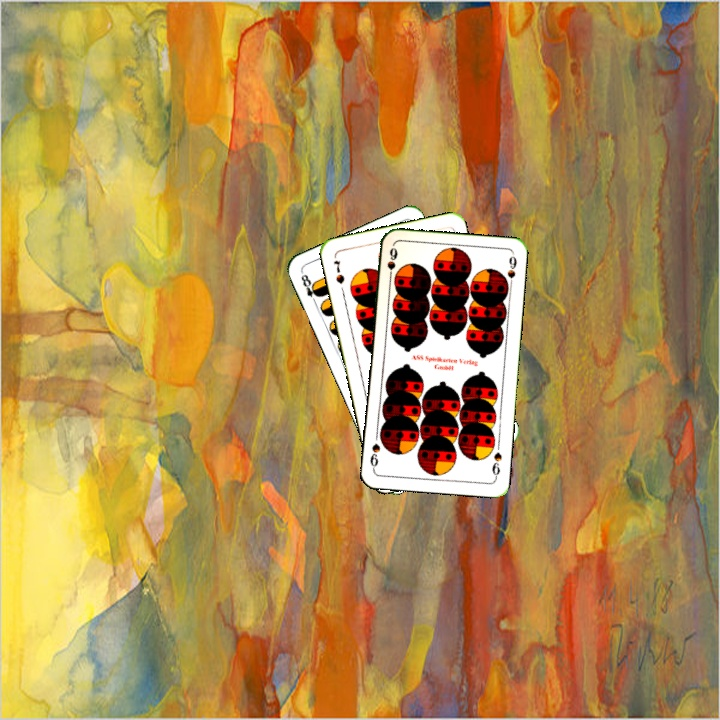E8: (297, 270, 322, 307)
S7: (329, 256, 347, 287)
S9: (383, 243, 400, 284), (488, 448, 504, 481)
